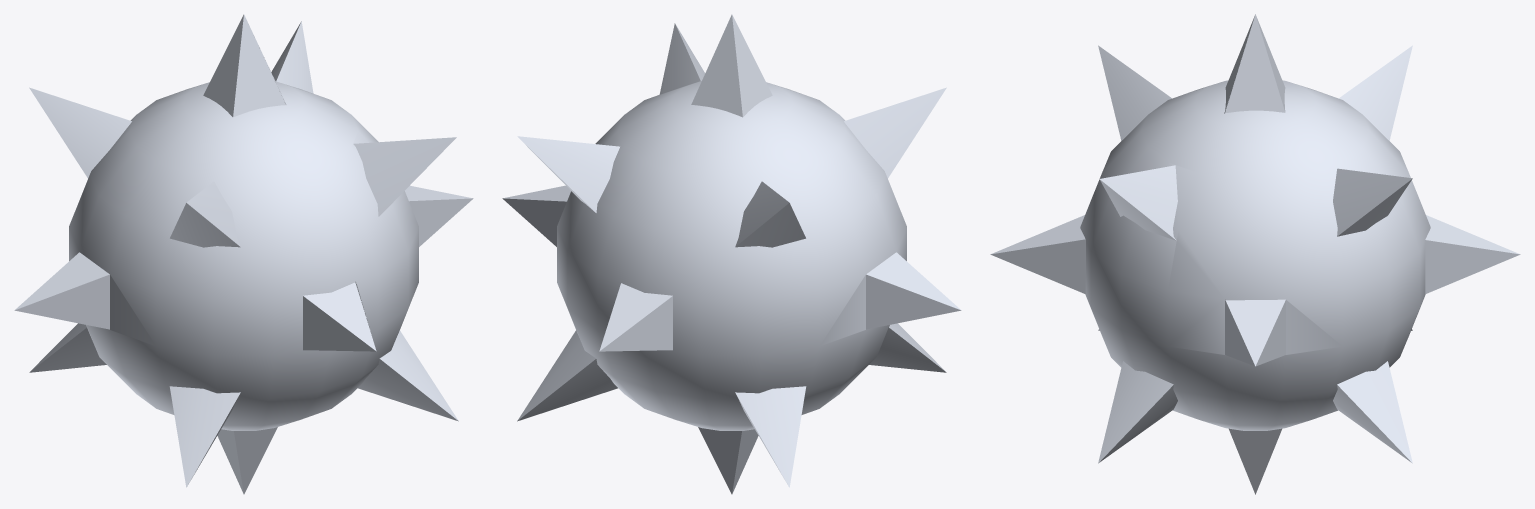
File: Spike F.fbx
3 renders of one model, left to right at view 1: azimuth 30°, elevation 25°; view 2: azimuth 150°, elevation 25°; view 3: azimuth 270°, elevation 25°, orthographic.
Visible parts, largest first — view 1: Spike F; view 2: Spike F; view 3: Spike F.
Boxes of the visible parts, box(x1,y1,x2,y2) form: Spike F: box(14, 14, 473, 494); Spike F: box(502, 14, 961, 494); Spike F: box(990, 14, 1520, 494).
Size of the model in its own units: 124 by 124 by 124.
